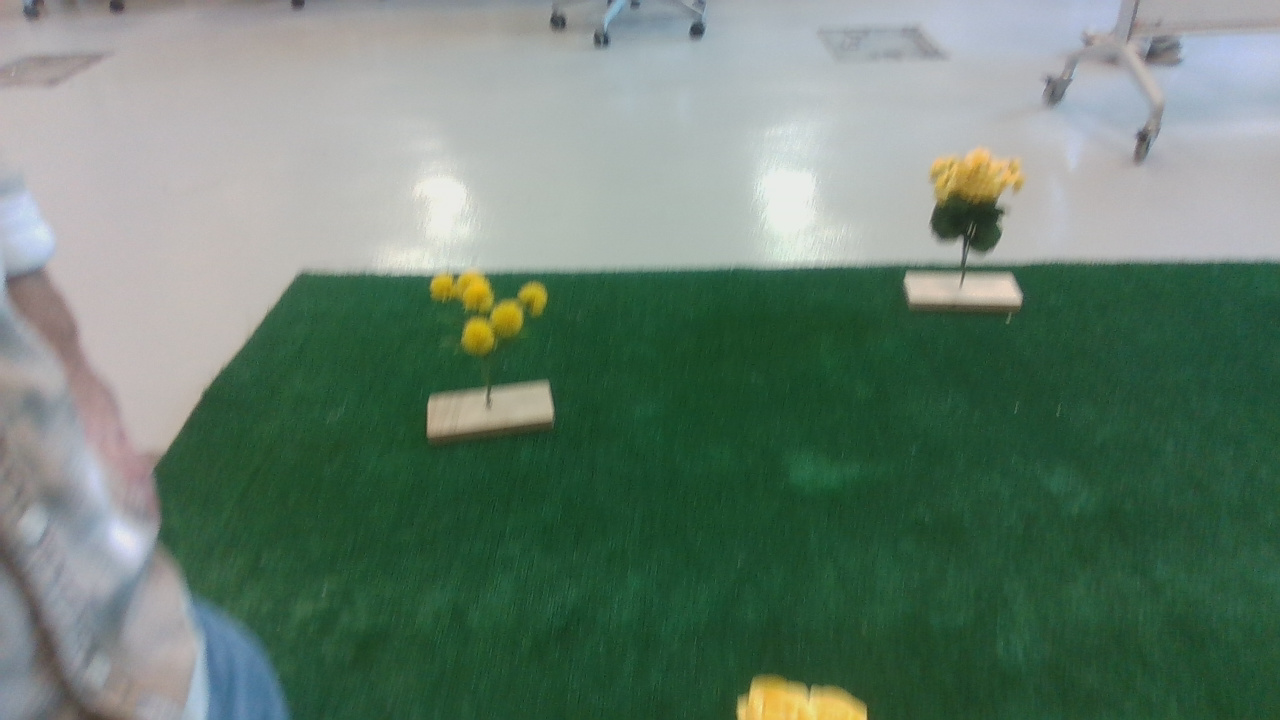dandelion: (425, 268, 565, 366)
geranium: (925, 148, 1036, 266)
